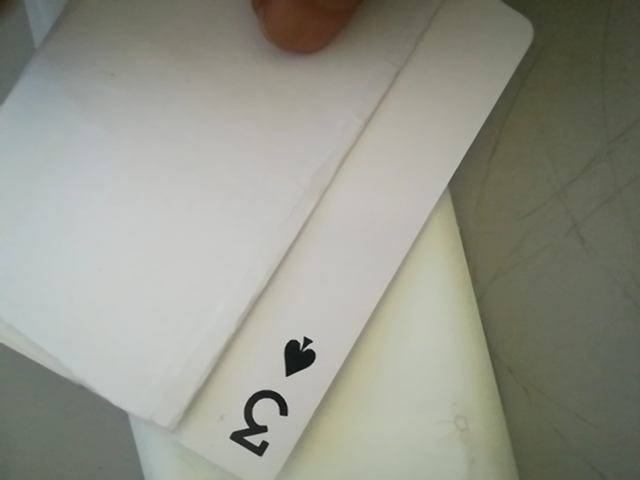ht 3: (208, 330, 331, 469)
